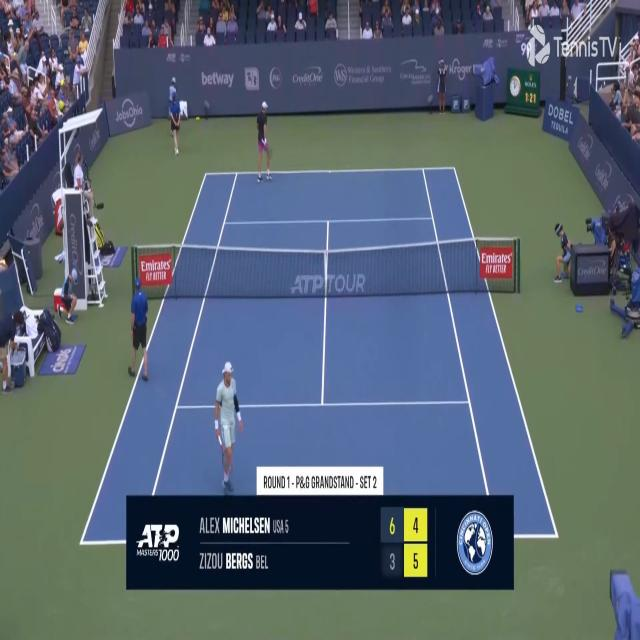tennis-player: (213, 358, 244, 494), (254, 98, 273, 185)
